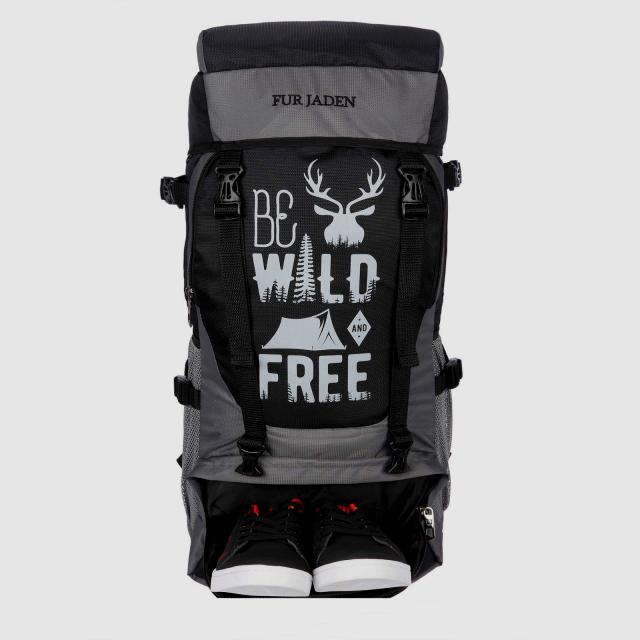backpack: (162, 22, 464, 600)
